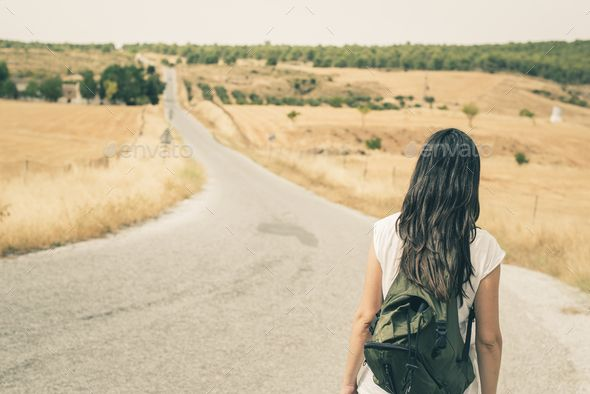Person: (338, 127, 512, 394)
